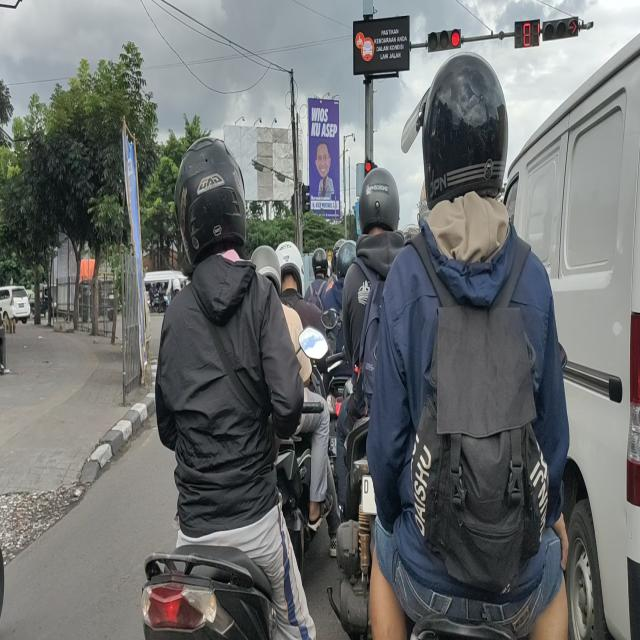helmet: (425, 68, 508, 203), (178, 141, 244, 252), (361, 170, 403, 234), (277, 242, 304, 295), (251, 246, 281, 288), (336, 242, 356, 276), (313, 251, 329, 283)
